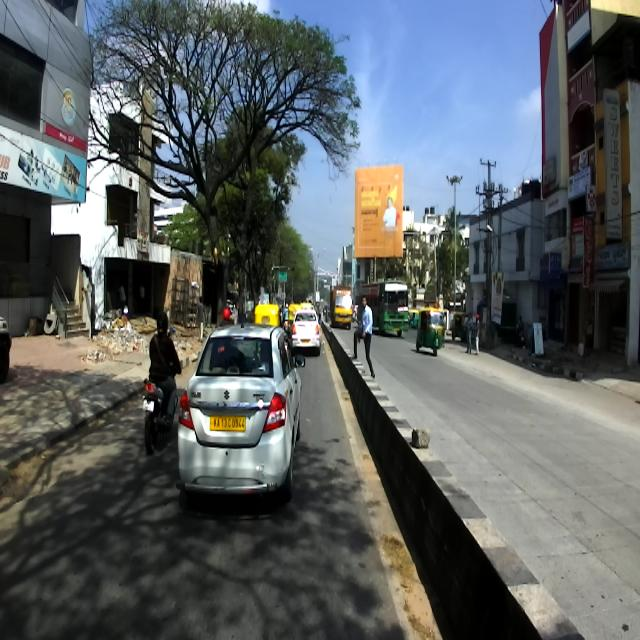car ahead at: (184, 324, 304, 499)
motorcycle ahead at: (140, 368, 180, 448)
